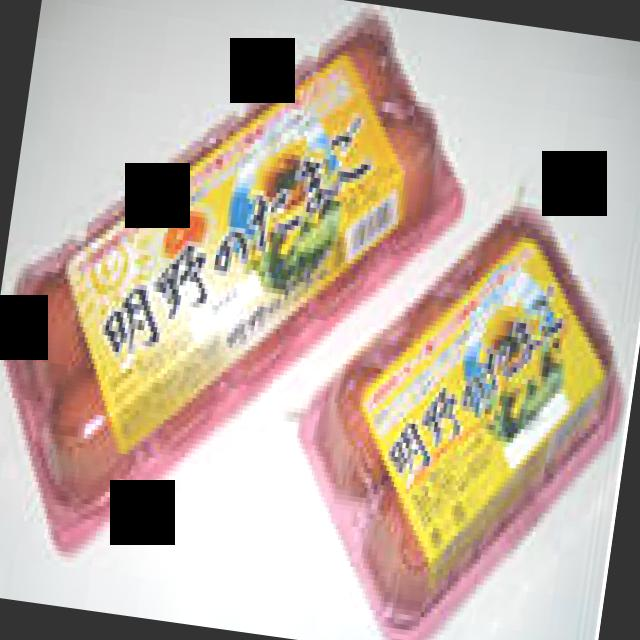egg: (0, 8, 464, 558), (299, 206, 621, 640)
